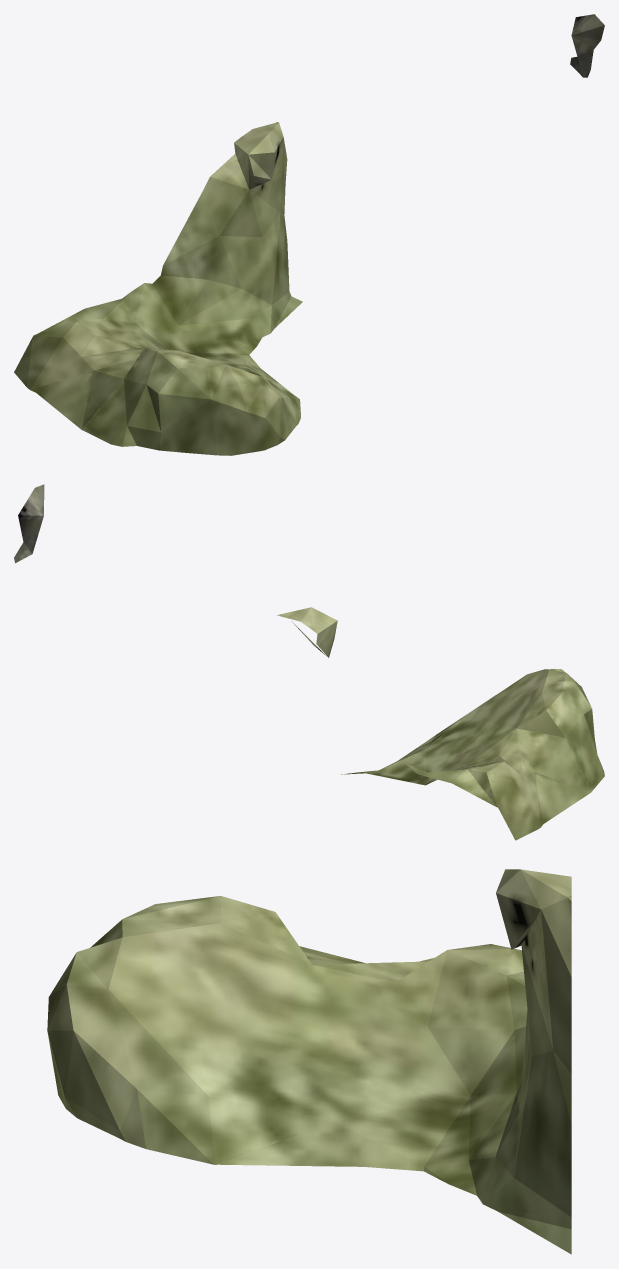
3 views of the same model, one above another, from view 1: azimuth 30°, elevation 25°; view 2: azimuth 150°, elevation 25°; view 3: azimuth 270°, elevation 25° (orthographic). The views are drawn at different scales.
Bounding box in the file's own units: 2.28 × 0.9233 × 1.02.
1 material, 1 textured.
